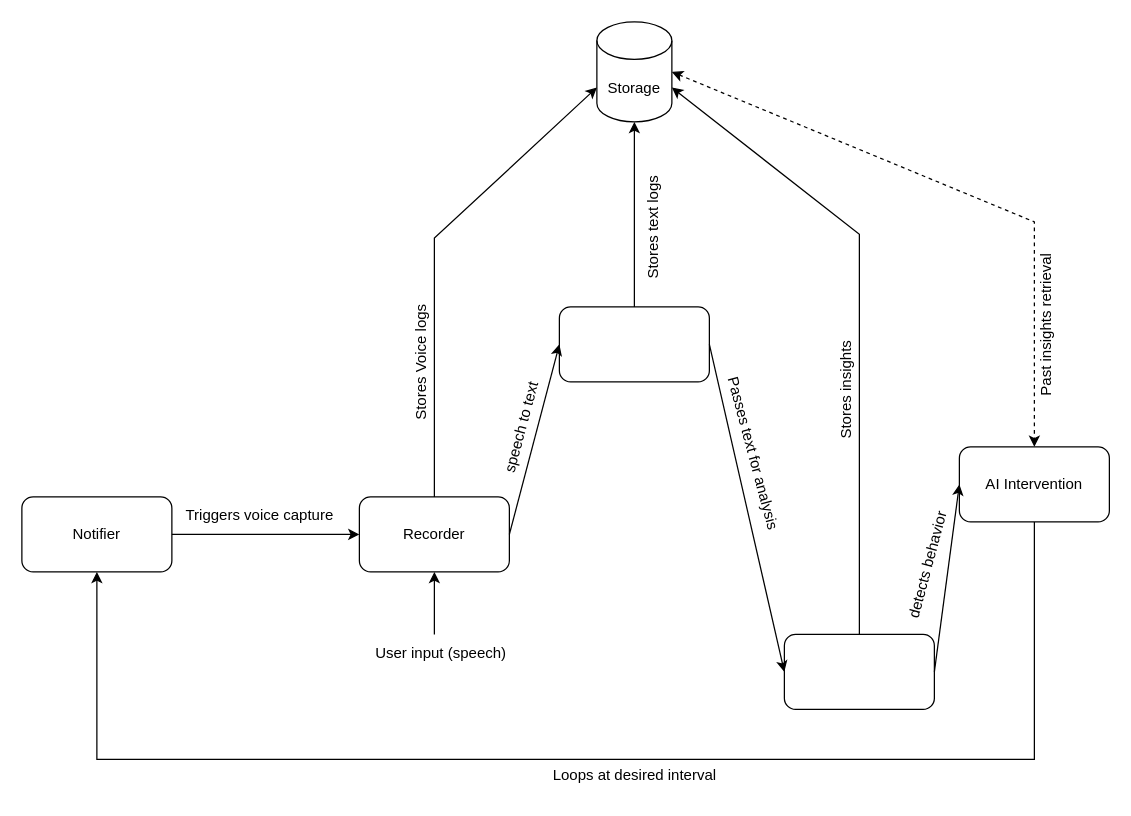
The diagram is 1131 pixels wide and 816 high, and some of its shapes have lost their labels. Here are the shapes that lost their labels. From the top down, the centre of each, then its label:
At [633,344]: "Transcriber".
At [858,671]: "Analyzer".
